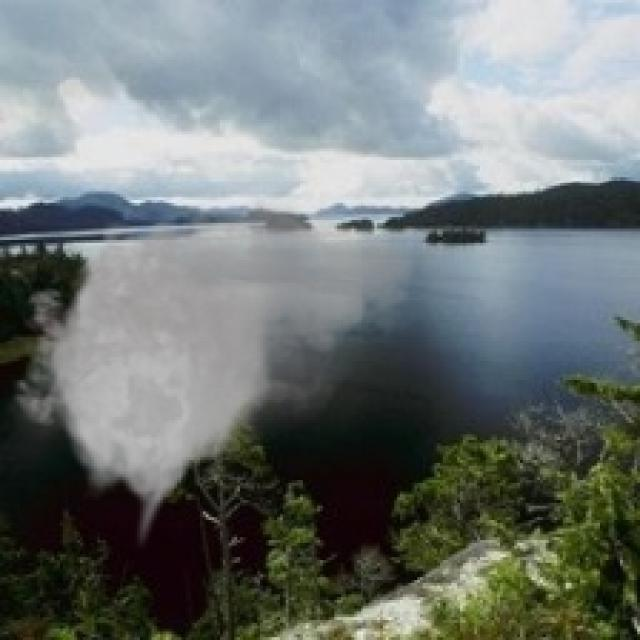smoke: (0, 183, 420, 551)
